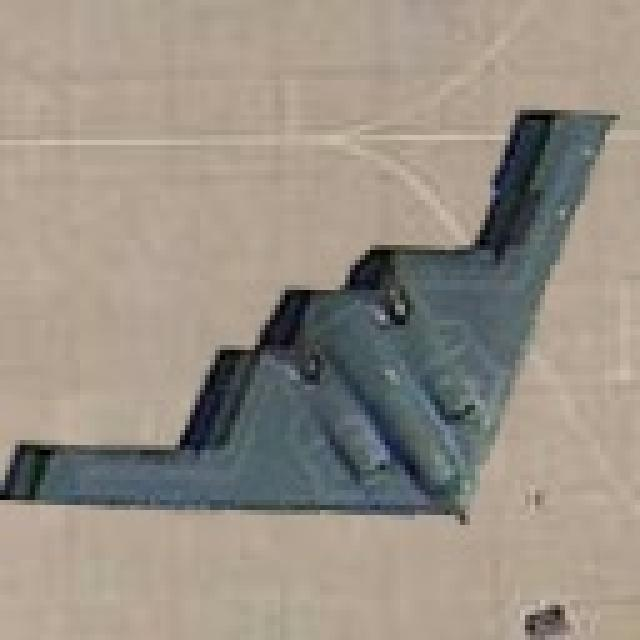B-2_TopDown: (0, 100, 620, 525)
